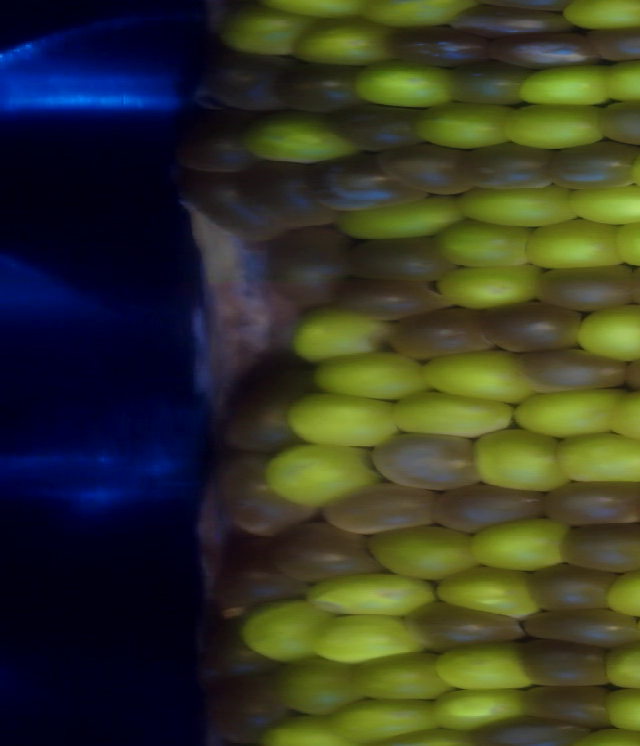fluorescent: (310, 346, 438, 404), (370, 520, 481, 585), (387, 388, 515, 444), (265, 441, 379, 502), (514, 382, 629, 439), (247, 111, 361, 167), (288, 304, 399, 361), (287, 390, 398, 446), (240, 597, 331, 665), (472, 428, 567, 492), (433, 639, 539, 696), (517, 217, 626, 271), (455, 182, 579, 229), (328, 197, 468, 238), (304, 574, 439, 616), (436, 564, 539, 619), (315, 616, 433, 664), (431, 349, 534, 403), (471, 520, 572, 574), (352, 54, 451, 108), (510, 101, 609, 154), (551, 427, 640, 485), (409, 98, 510, 148), (356, 649, 446, 702), (300, 16, 389, 69), (219, 7, 308, 59), (279, 654, 350, 718), (445, 219, 534, 270), (520, 64, 615, 109), (439, 265, 538, 308), (333, 696, 435, 737), (579, 299, 640, 362), (434, 687, 519, 727), (358, 1, 463, 33), (572, 182, 640, 223), (266, 717, 356, 746), (565, 1, 640, 33), (602, 635, 640, 695), (599, 678, 640, 733), (609, 387, 640, 449), (604, 566, 640, 616), (607, 54, 640, 104)
nonfluorescent: (271, 518, 382, 588), (373, 427, 482, 496), (224, 356, 307, 445), (412, 595, 536, 654), (223, 451, 310, 534), (184, 170, 273, 246), (475, 296, 588, 353), (342, 233, 460, 286), (331, 270, 446, 323), (272, 225, 349, 303), (213, 554, 303, 620), (324, 480, 442, 530), (431, 482, 547, 532), (323, 151, 417, 212), (518, 672, 613, 732), (463, 138, 558, 196), (256, 160, 335, 229), (523, 602, 640, 648), (530, 259, 631, 312), (391, 134, 470, 201), (521, 346, 629, 395), (396, 309, 499, 360), (202, 51, 294, 107), (384, 20, 489, 67), (204, 672, 276, 739), (549, 477, 640, 530), (524, 637, 613, 691), (488, 25, 602, 67), (182, 111, 251, 178), (333, 102, 424, 151), (526, 565, 614, 614), (549, 137, 634, 187), (454, 2, 572, 38), (557, 522, 640, 571), (475, 713, 589, 746), (450, 59, 526, 108), (289, 57, 357, 109), (589, 17, 640, 61), (604, 96, 640, 146)
